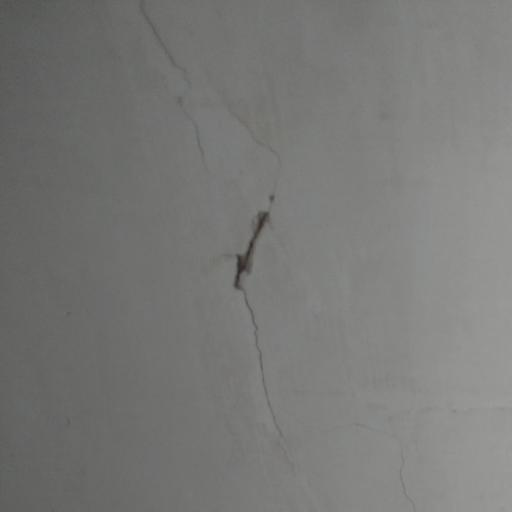minor_crack: (124, 0, 348, 512), (375, 418, 435, 512)
